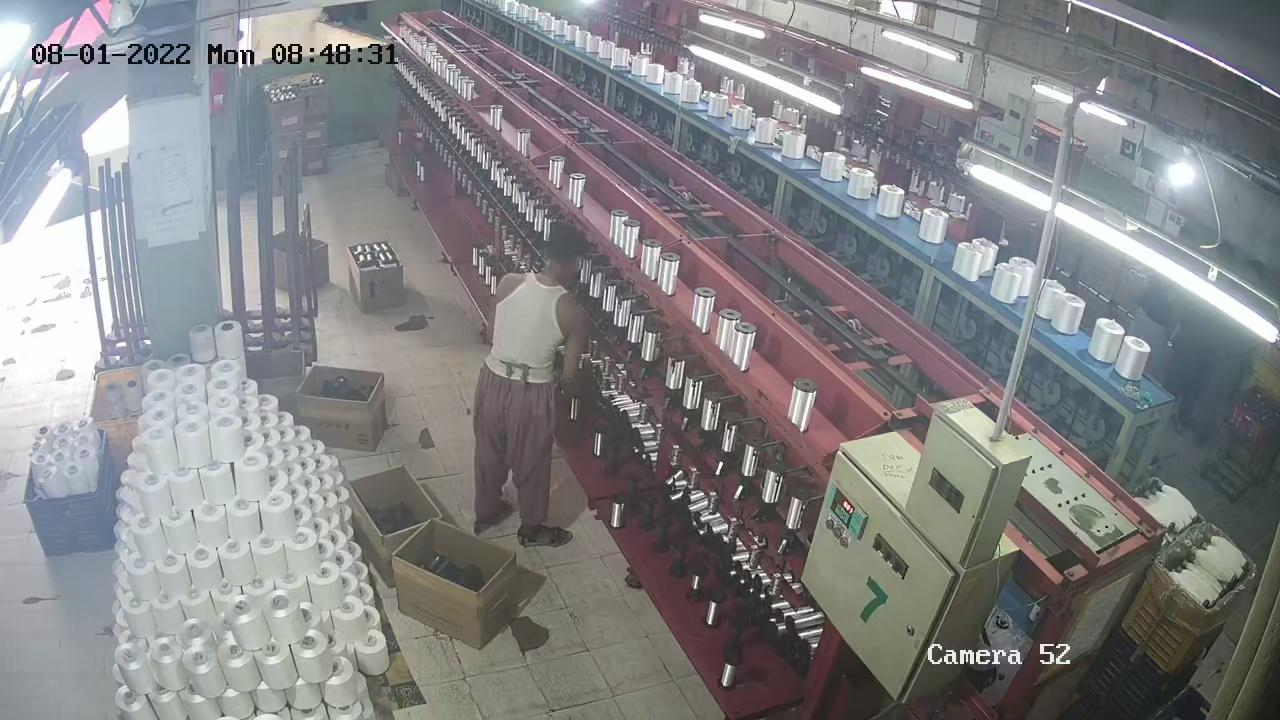person: (459, 230, 587, 507)
